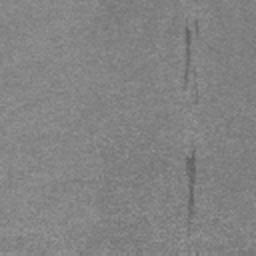Red iron sheet: (183, 20, 204, 90), (186, 146, 198, 220)
